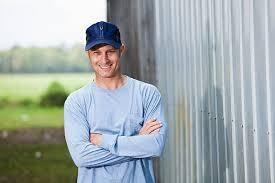cap: (82, 20, 129, 53)
